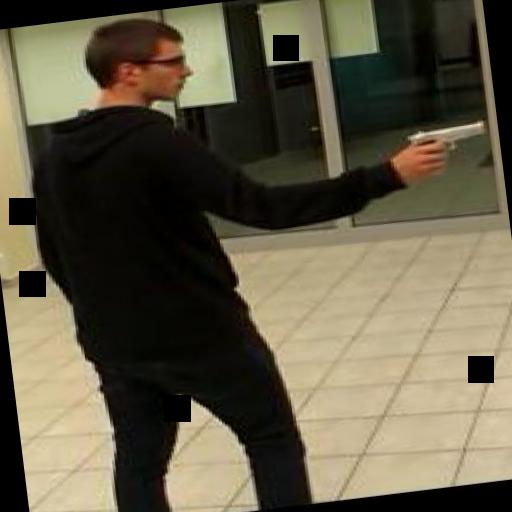Handgun: (392, 118, 491, 176)
